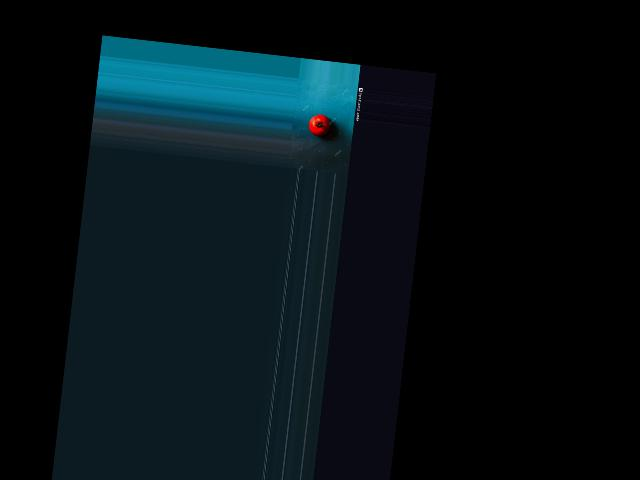tomato: (307, 113, 331, 137)
